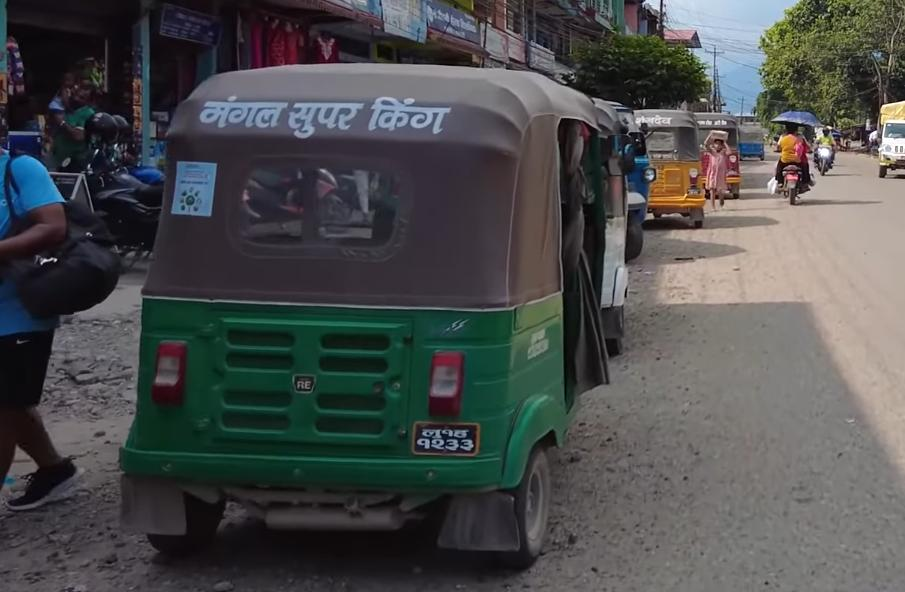auto_rickshaw: (103, 57, 621, 575)
